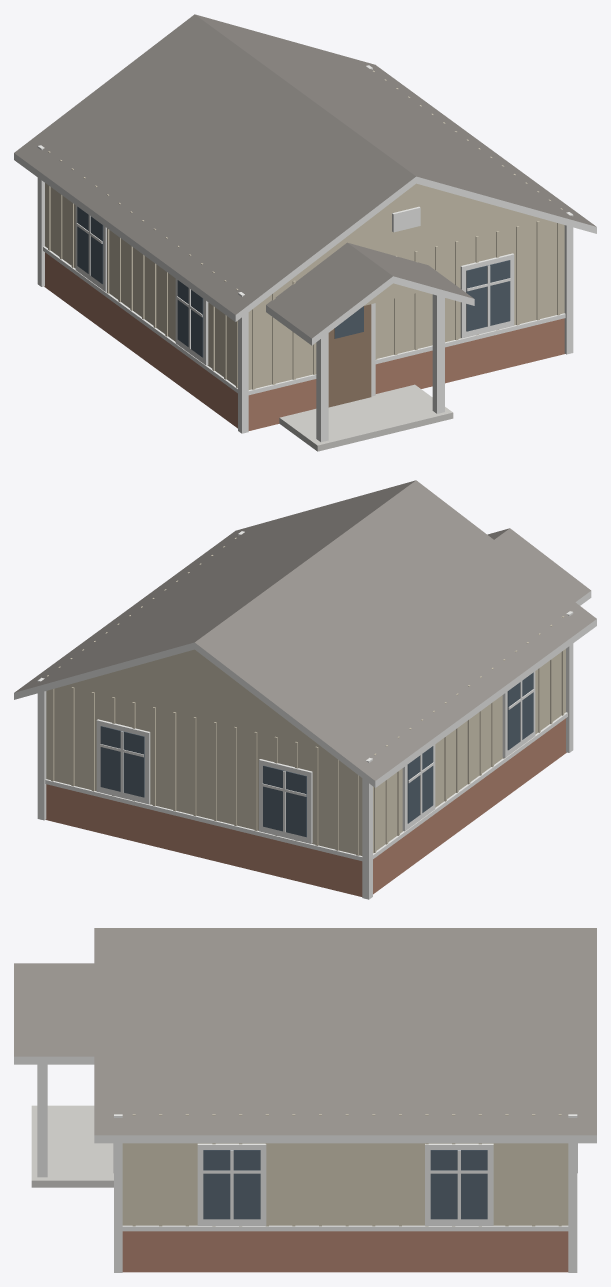
The model's file is escalon-craftsman.glb.
3 views of the same model, one above another, from view 1: azimuth 30°, elevation 25°; view 2: azimuth 150°, elevation 25°; view 3: azimuth 270°, elevation 25° (orthographic). The views are drawn at different scales.
Visible parts, largest first — view 1: The Escalon (craftsman); view 2: The Escalon (craftsman); view 3: The Escalon (craftsman).
Part boxes in pixels (x1,y1,x2,y2): The Escalon (craftsman): (14, 14, 596, 451); The Escalon (craftsman): (14, 480, 596, 899); The Escalon (craftsman): (14, 928, 596, 1272).
Size of the model in its own units: 7.47 by 4.43 by 9.19.
